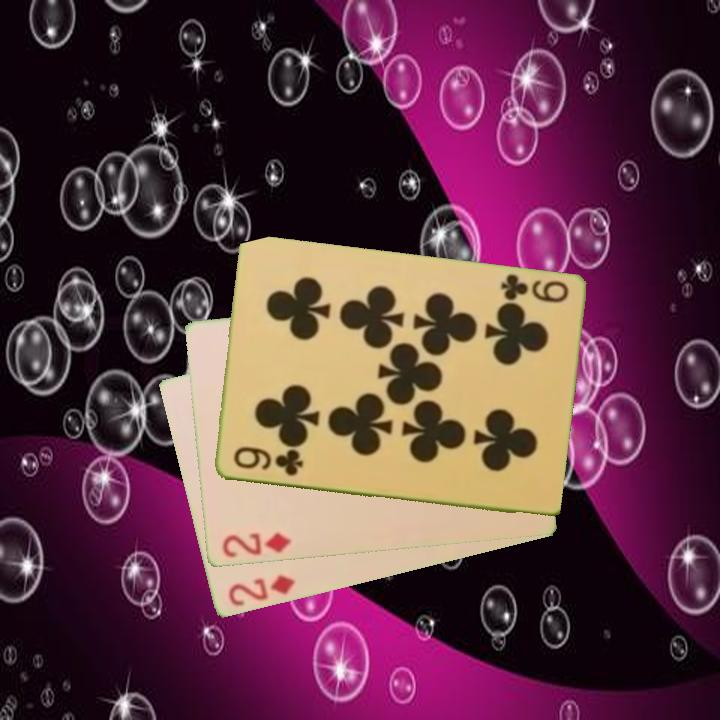2d: (224, 572, 297, 610), (218, 529, 294, 561)
9c: (496, 270, 571, 306), (229, 444, 306, 479)
